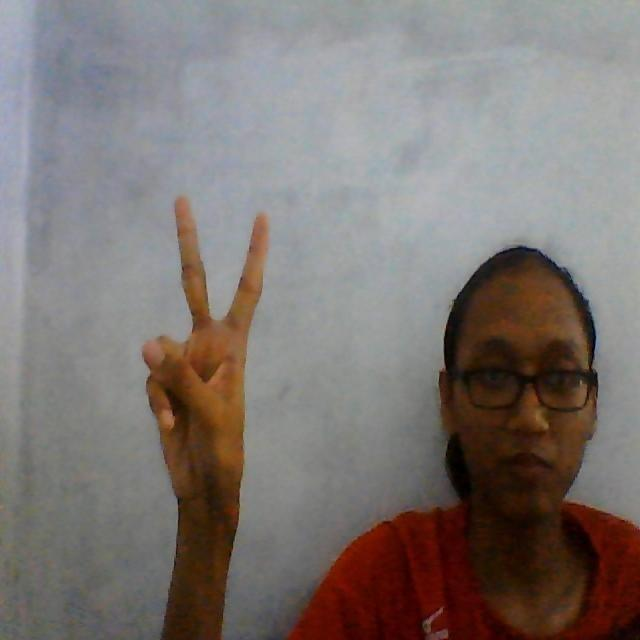V: (115, 160, 294, 516)
